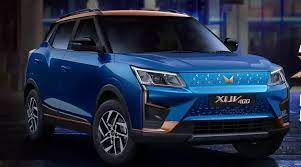XUV 400: (20, 7, 290, 165)
